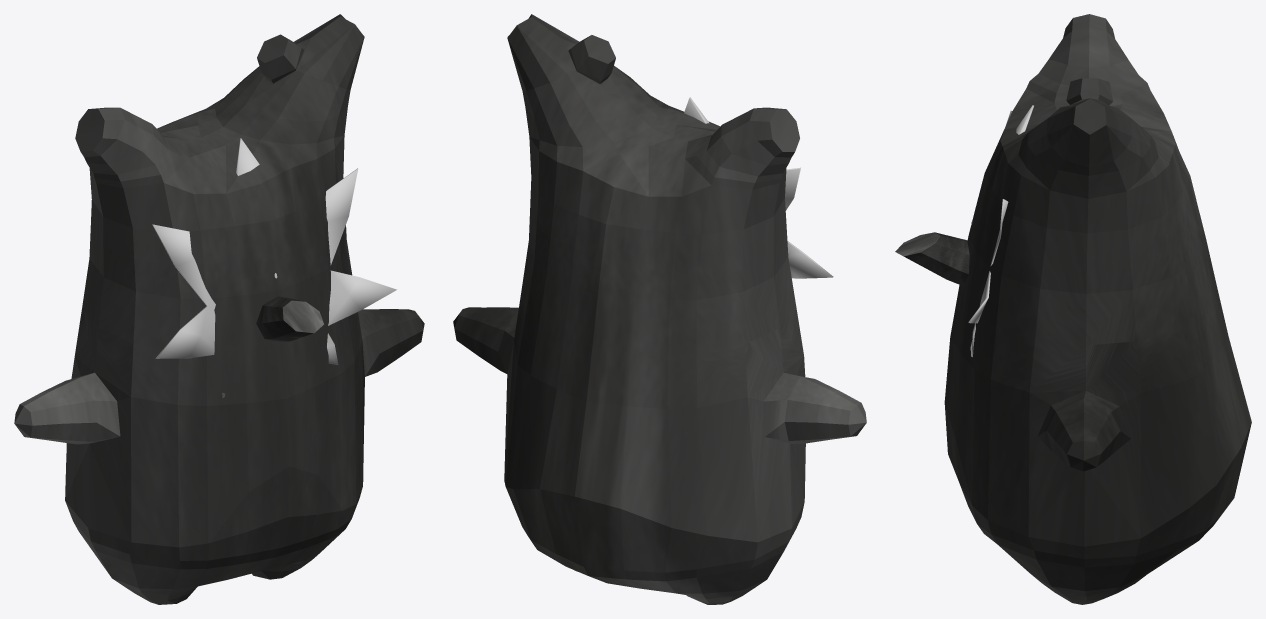
Rendered from frame_0038.obj.
3 views of the same model, side by side, from view 1: azimuth 30°, elevation 25°; view 2: azimuth 150°, elevation 25°; view 3: azimuth 270°, elevation 25° (orthographic).
Parts seen in each view (by area): view 1: korok, leaf, nose; view 2: korok, leaf; view 3: korok, nose, leaf.
Part boxes in pixels (x1=…): korok: x1=14, y1=14, x2=424, y2=604; leaf: x1=152, y1=138, x2=396, y2=397; nose: x1=256, y1=296, x2=323, y2=341; korok: x1=453, y1=14, x2=866, y2=604; leaf: x1=684, y1=97, x2=833, y2=278; korok: x1=944, y1=14, x2=1251, y2=604; nose: x1=895, y1=232, x2=969, y2=286; leaf: x1=968, y1=105, x2=1033, y2=357.
Bounding box in the file's own units: 1.79 × 2.25 × 1.36.
